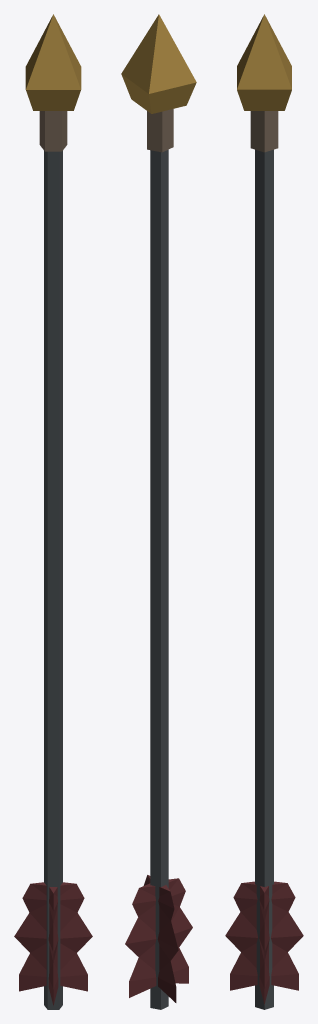
Rendered from _arrow_c_1.glb.
The picture shows the model from 3 angles, left to right: view 1: azimuth 90°, elevation 25°; view 2: azimuth 210°, elevation 25°; view 3: azimuth 270°, elevation 25°; orthographic projection.
Visible parts, largest first — view 1: arrow_c_1; view 2: arrow_c_1; view 3: arrow_c_1.
Part boxes in pixels (x1,y1,x2,y2): arrow_c_1: (14, 14, 92, 1009); arrow_c_1: (121, 14, 196, 1009); arrow_c_1: (225, 14, 303, 1009).
Size of the model in its own units: 1394 by 19390 by 1394.
Materials: 1 (1 with a texture image).
